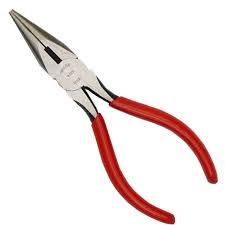pliers: (6, 7, 218, 224)
